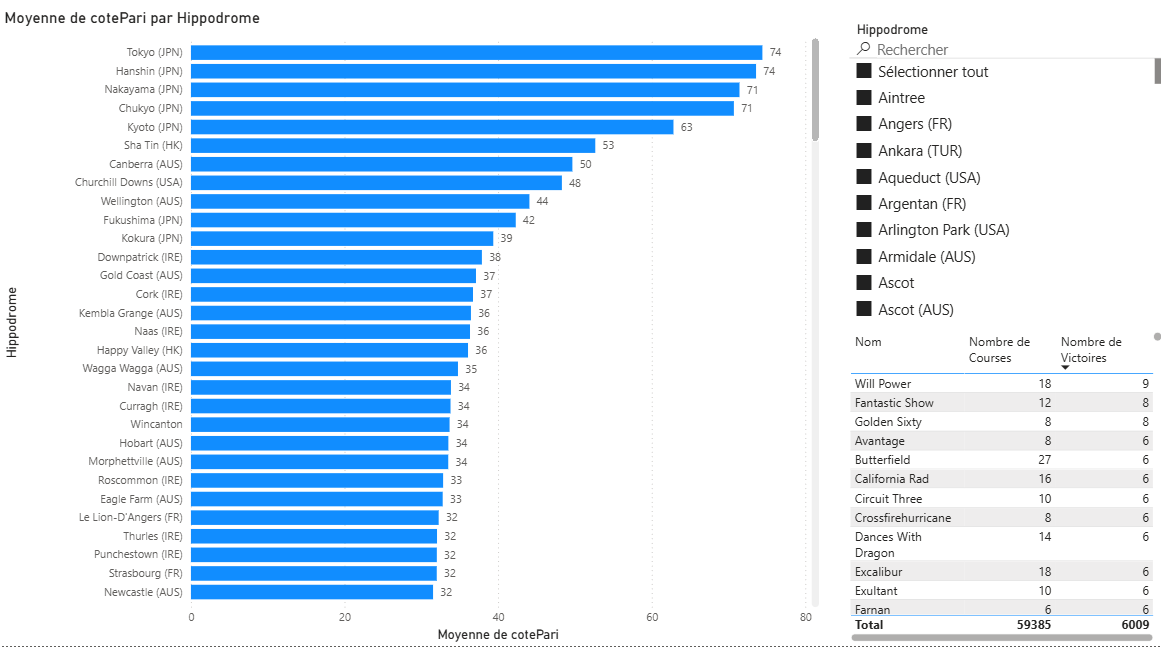

The page's visual inventory and layout, read from the dashboard file:
{"tool":"powerbi","page":{"name":"Page 1","canvas":[1280,720],"ordinal":0},"visuals":[{"type":"clusteredBarChart","fields":{"Category":["Hippodromes.Nom"],"Y":["Avg(Participations.cotePari)"]},"box":[0,20.6,904.3,699.8],"z":0},{"type":"slicer","fields":{"Values":["Hippodromes.Nom"]},"box":[927.6,30.2,352.7,340.3],"z":1000},{"type":"tableEx","fields":{"Values":["Chevaux.Nom","Participations.Nombre de Courses","Participations.Nombre de Victoires"]},"box":[927.6,370.5,352.7,349.9],"z":2000}]}

Visuals, with their boxes in screenshot pixels (x1, y1, x2, y2), scaled from the page's 1280x720 canvas onto the 1161x647 screenshot:
clusteredBarChart - Hippodromes.Nom x Avg(Participations.cotePari): (x1=0, y1=19, x2=820, y2=646)
slicer - Hippodromes.Nom: (x1=841, y1=27, x2=1160, y2=333)
tableEx - Chevaux.Nom x Participations.Nombre de Courses: (x1=841, y1=333, x2=1160, y2=646)
